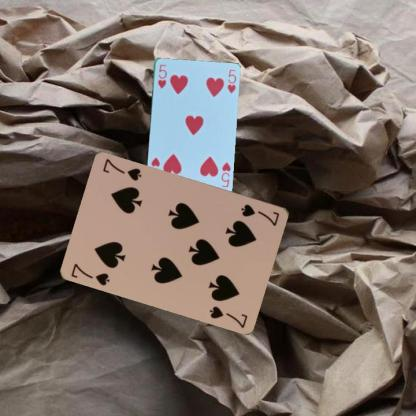5h: (218, 159, 232, 188), (155, 62, 167, 89)
7s: (238, 201, 282, 227), (69, 261, 112, 287)
